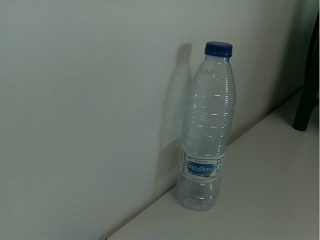botella plastico: (173, 40, 239, 212)
